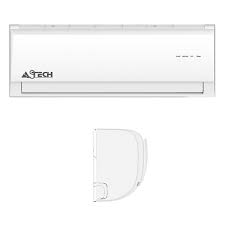ac: (8, 19, 221, 102)
